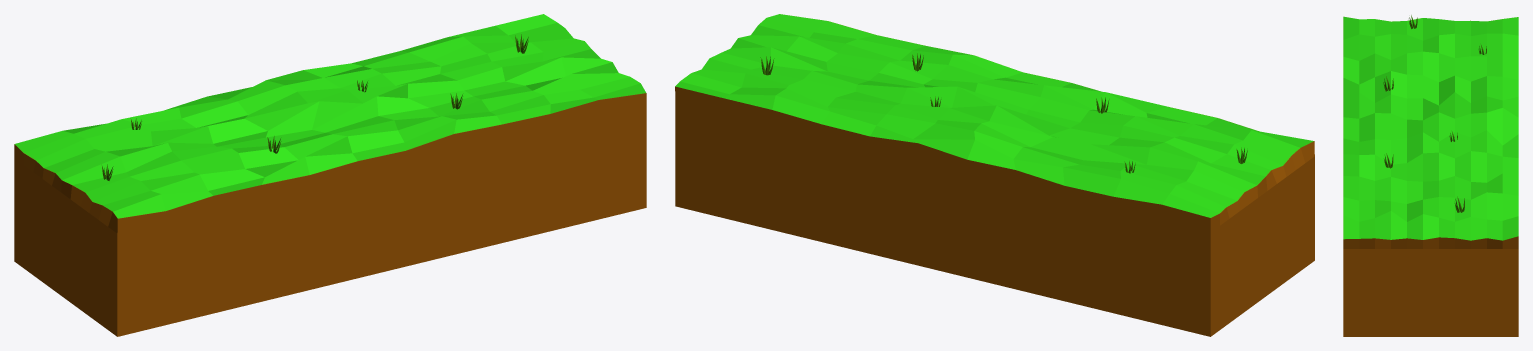
The model's file is ground3 (1).fbx.
3 renders of one model, left to right at view 1: azimuth 30°, elevation 25°; view 2: azimuth 150°, elevation 25°; view 3: azimuth 270°, elevation 25°, orthographic. The views are drawn at different scales.
Visible parts, largest first — view 1: Plane; view 2: Plane; view 3: Plane.
Part boxes in pixels (x1=…): Plane: x1=14, y1=14, x2=646, y2=336; Plane: x1=675, y1=14, x2=1314, y2=336; Plane: x1=1343, y1=16, x2=1518, y2=336.
Size of the model in its own units: 3500 by 850 by 1169.
